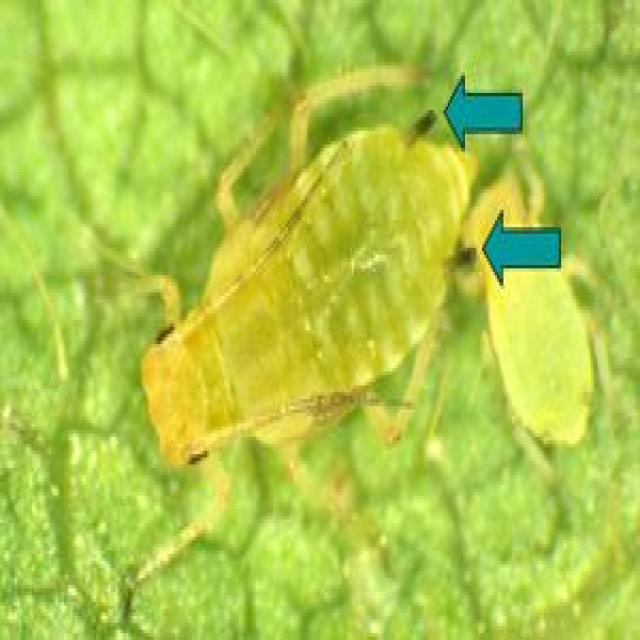Aphids: (72, 90, 473, 538)
